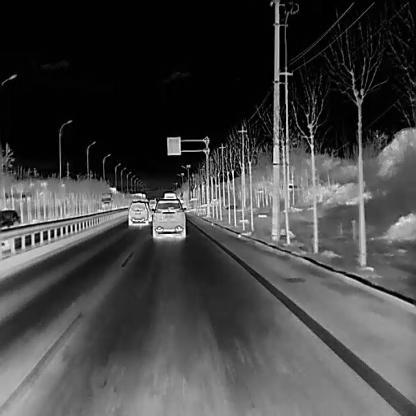car: (150, 196, 185, 238), (0, 209, 25, 249), (127, 198, 148, 225), (100, 191, 113, 212), (148, 197, 156, 209)
